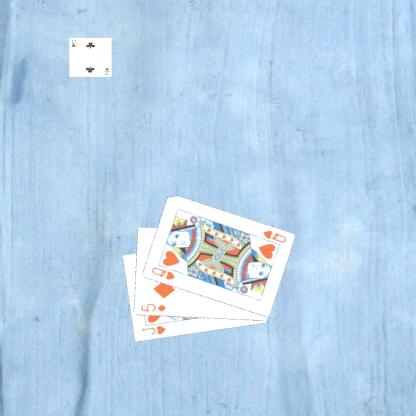5D: (139, 301, 168, 313)
JH: (139, 323, 167, 336)
QH: (255, 227, 287, 247), (149, 264, 176, 281)
